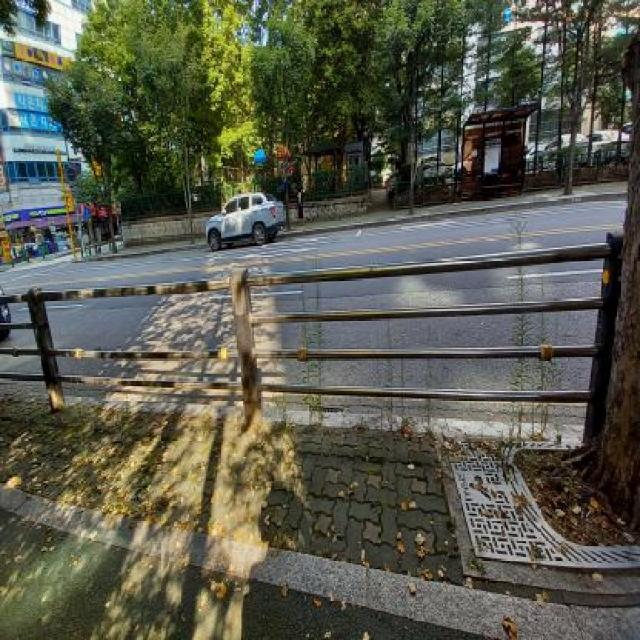fence: (26, 246, 640, 464)
